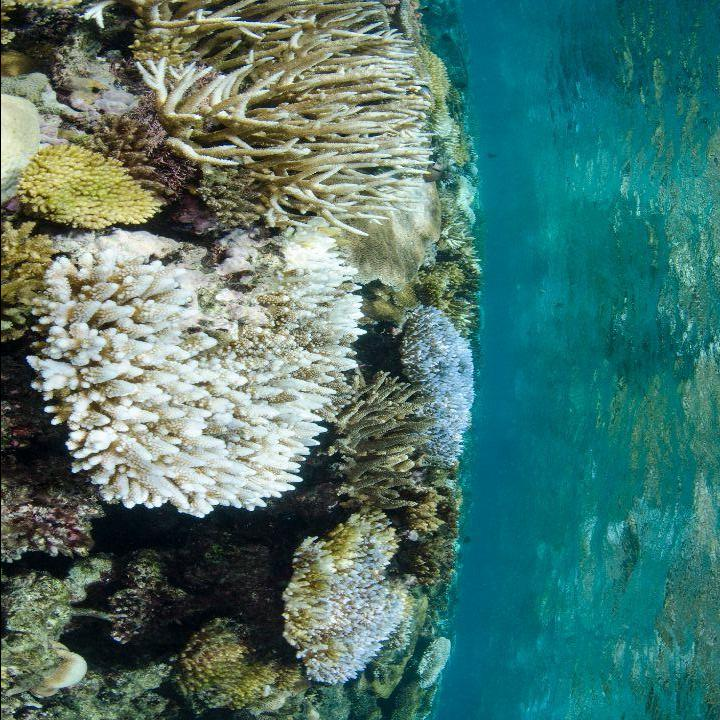Bleached disease: (56, 169, 406, 547)
